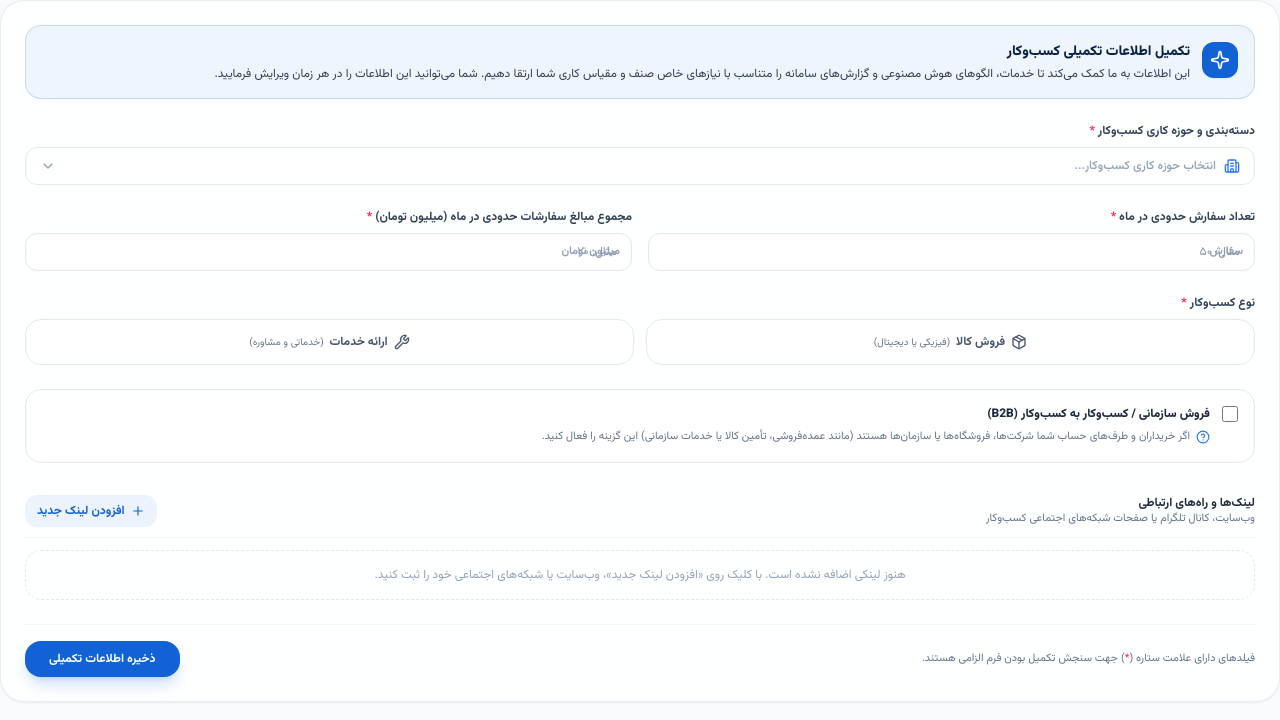
Test: [component] BusinessProfileForm Component › shows a no-results message when the category search matches nothing
Click the button "انتخاب حوزه کاری کسب‌وکار...".
click(1145, 166)  # box [25,147,1255,185]
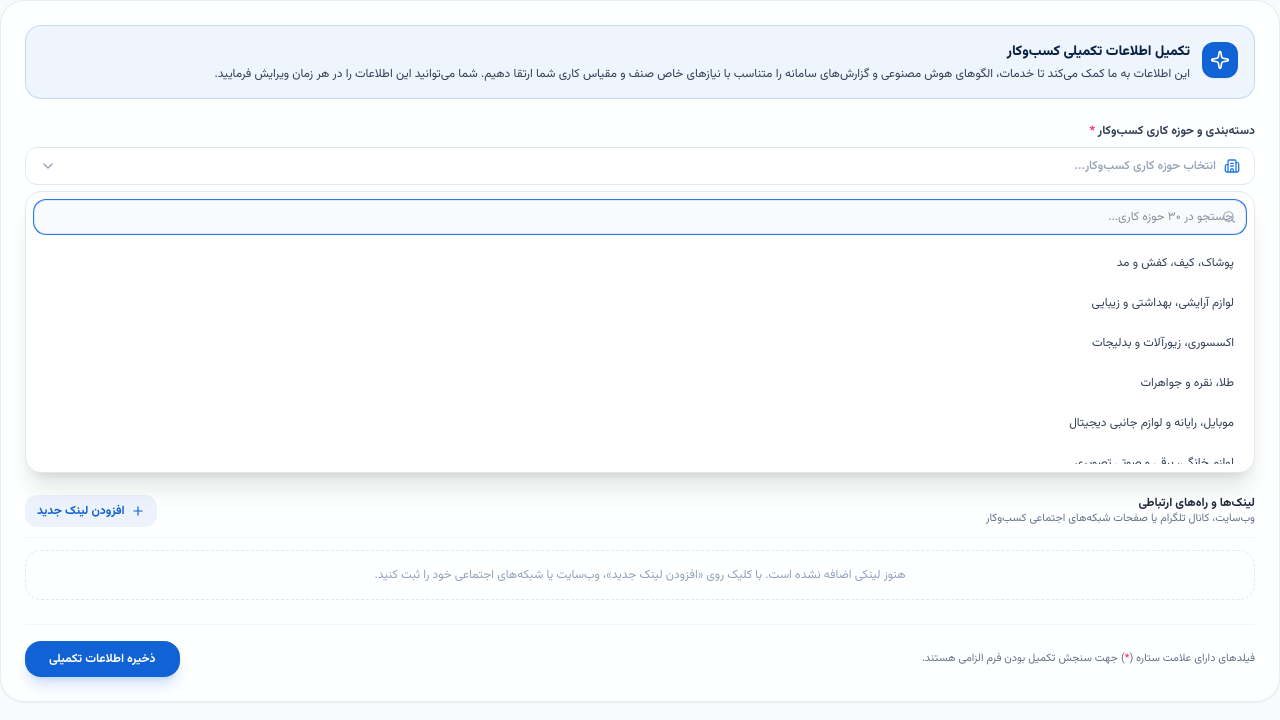
Type "zzzz" into the field with placeholder "جستجو در ۳۰ حوزه کاری...".
click(640, 217); type("zzzz")  # box [34,200,1246,234]
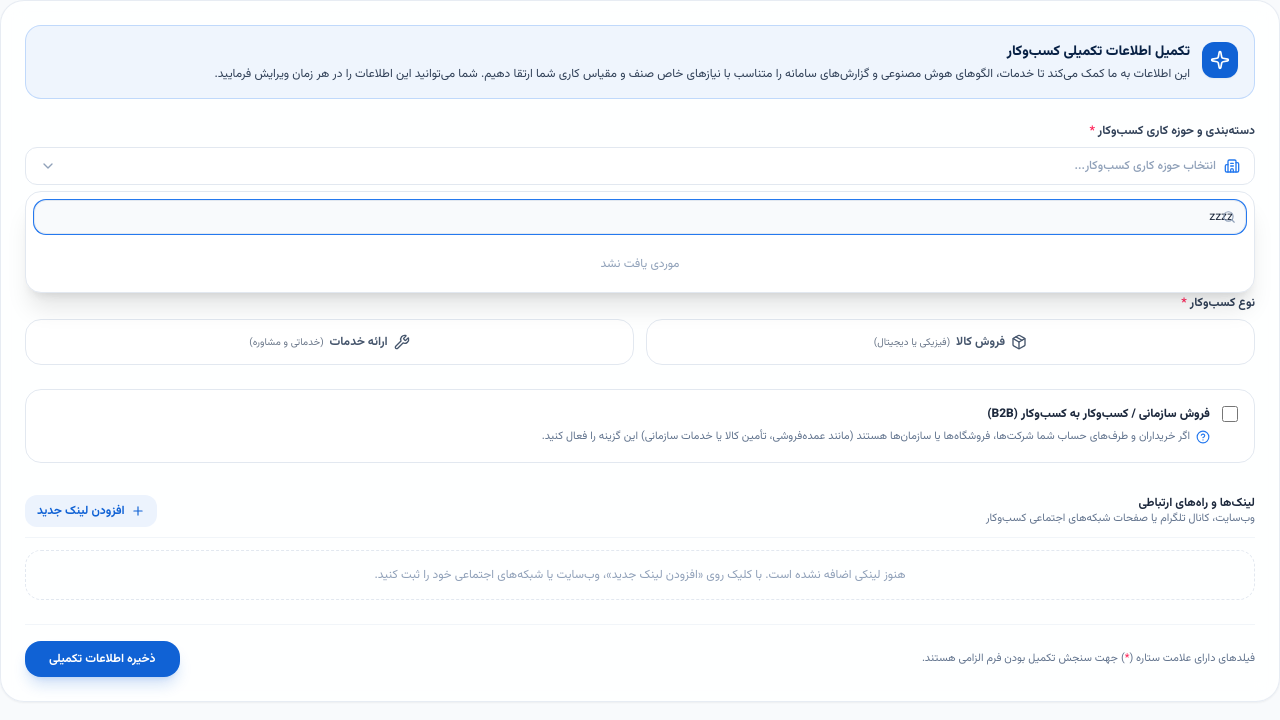
Expected: the text "موردی یافت نشد" is shown, [600,255,680,273]
